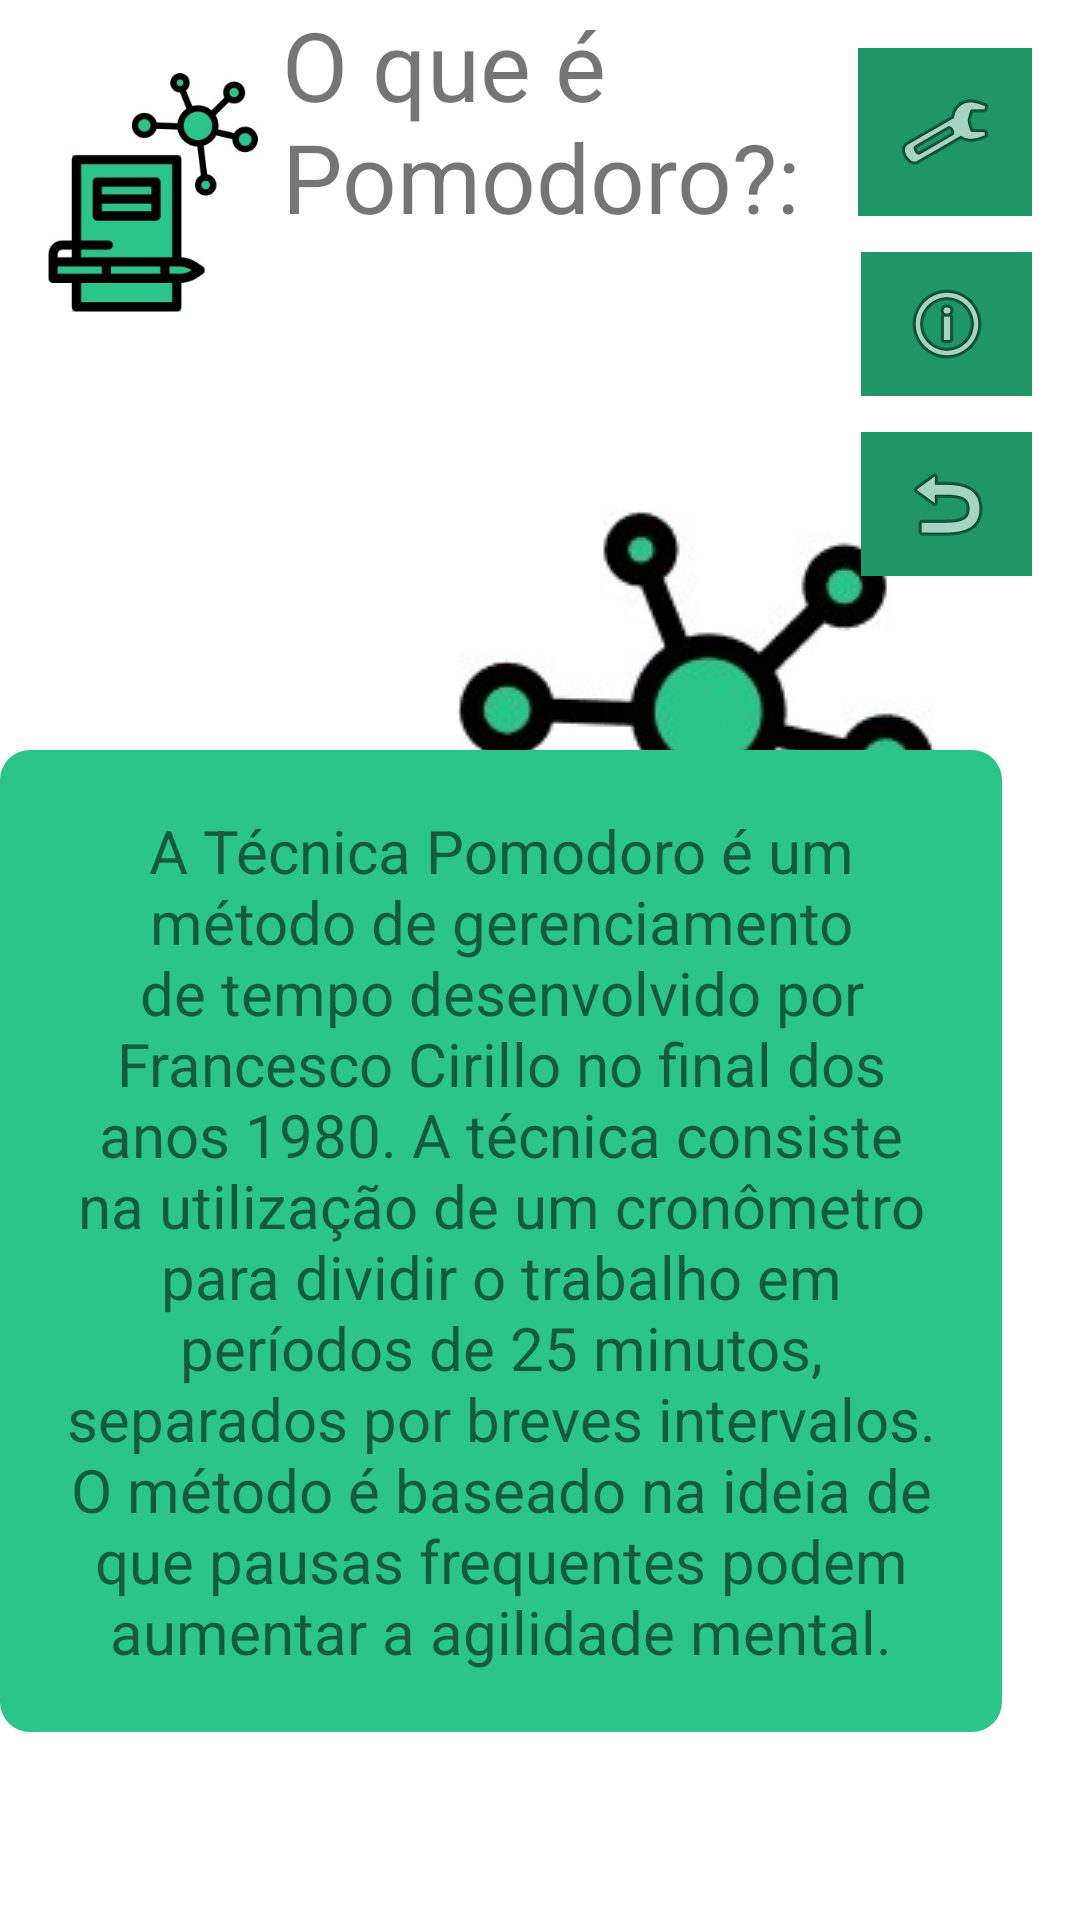

Screen size 1080×1920. Icon name, then its center in pixels as point (x, y):
info details: point (946, 324)
manage: point (945, 132)
revert: point (946, 504)
